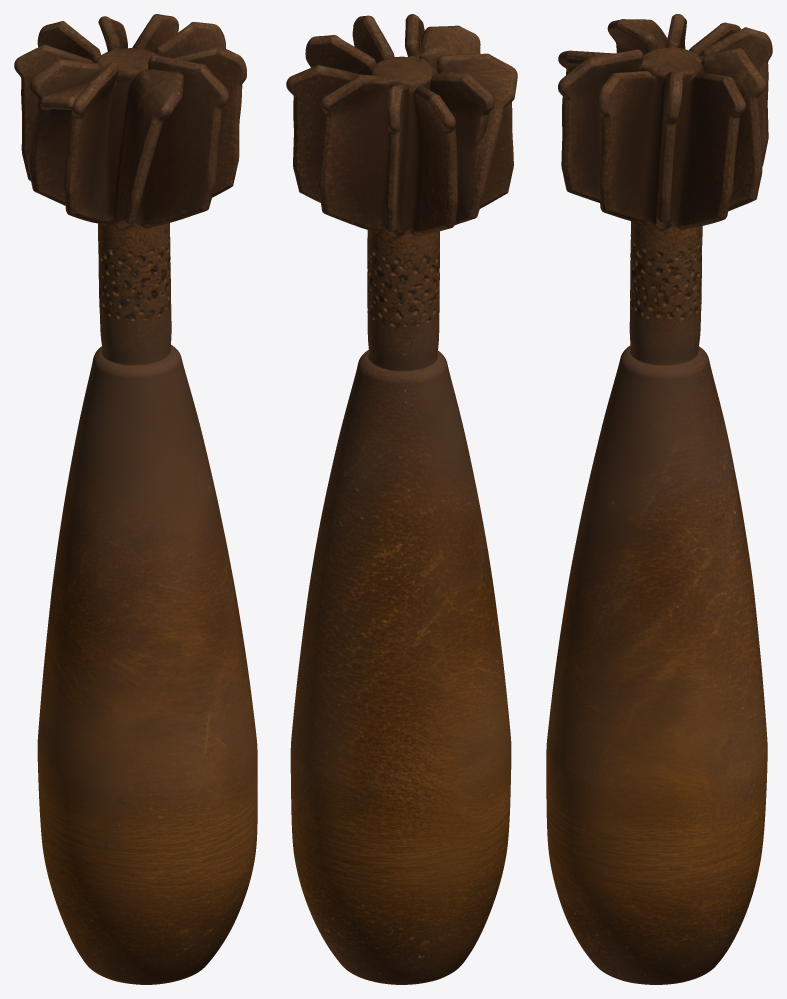
Rendered from 日军侵华导弹.glb.
3 renders of one model, left to right at view 1: azimuth 30°, elevation 25°; view 2: azimuth 150°, elevation 25°; view 3: azimuth 270°, elevation 25°, orthographic.
Visible parts, largest first — view 1: texture_pbr_v128; view 2: texture_pbr_v128; view 3: texture_pbr_v128.
Part boxes in pixels (x1,y1,x2,y2): texture_pbr_v128: (14, 14, 257, 984); texture_pbr_v128: (286, 14, 517, 984); texture_pbr_v128: (546, 14, 772, 984).
Bounding box in the file's own units: 0.275 × 1.17 × 0.2631.
Materials: 1 (1 with a texture image).
